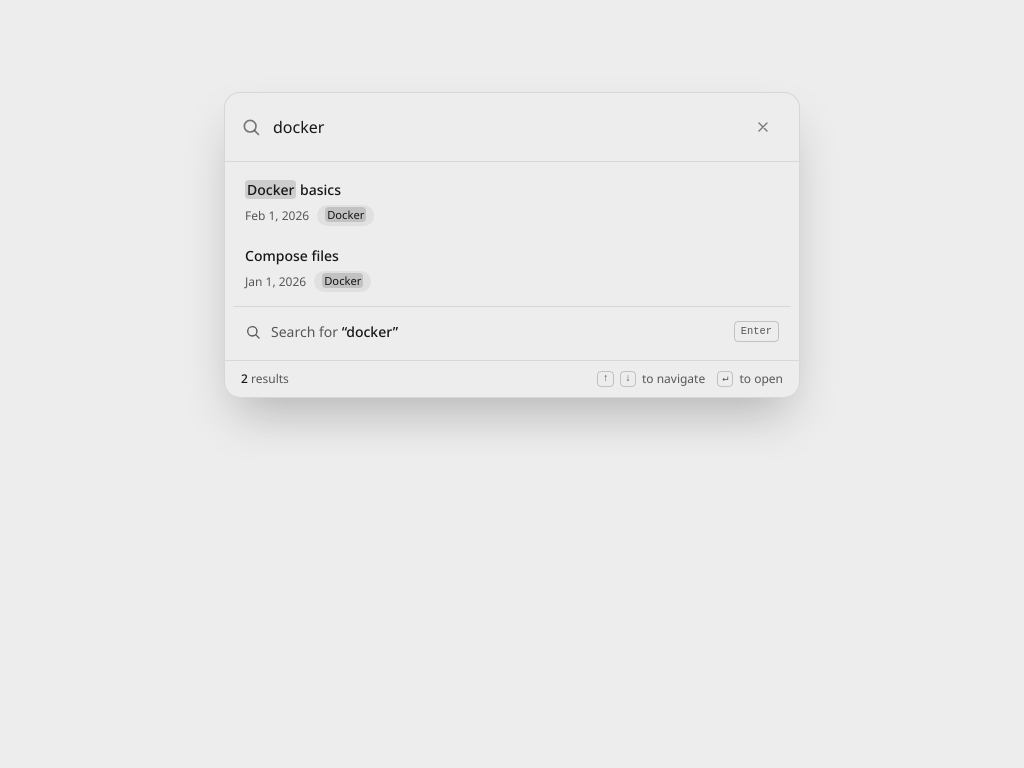
Test: SearchModal › clears the query with the clear button
The image size is (1024, 768).
Expected: the dropdown holds "docker", [273, 115, 731, 139]
Click the button named "Clear search". click: {"x": 763, "y": 127}
box: [743, 107, 783, 147]
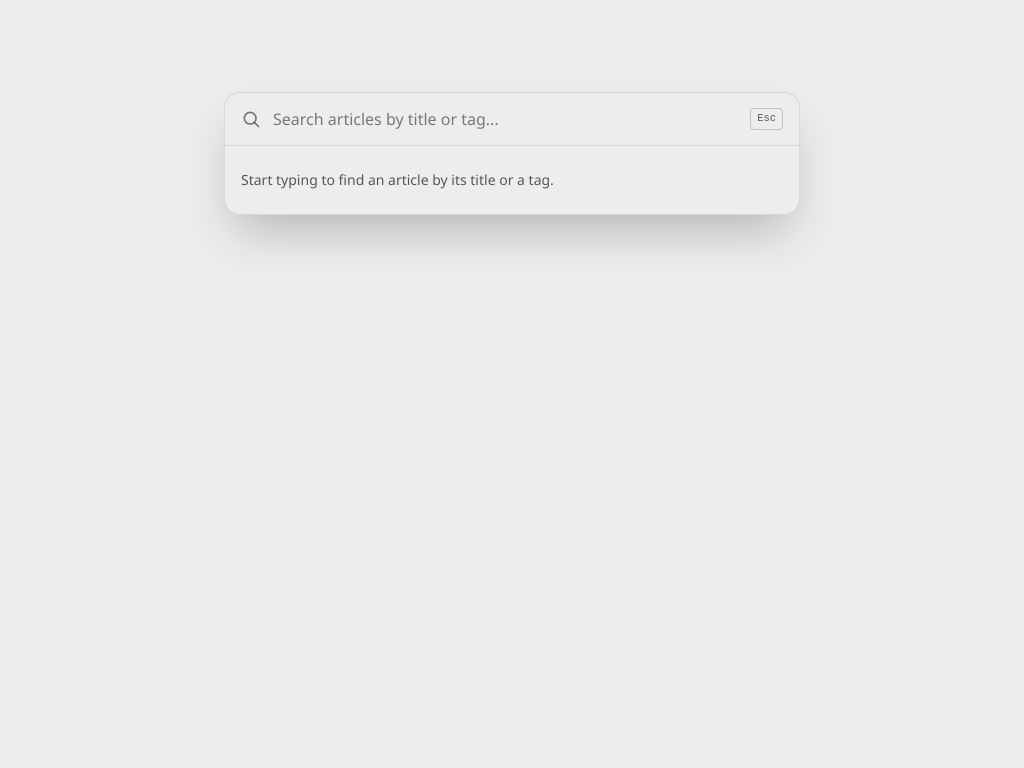
Result: the dropdown is empty at [273, 107, 738, 131]
